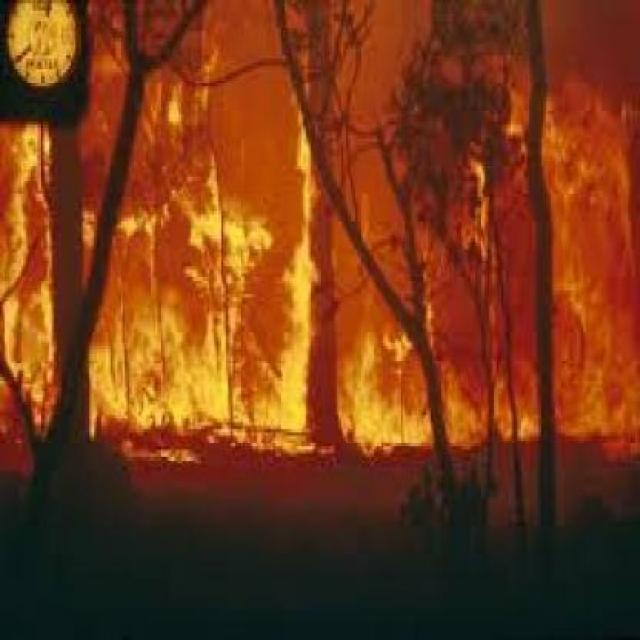Fire: (0, 138, 482, 473)
